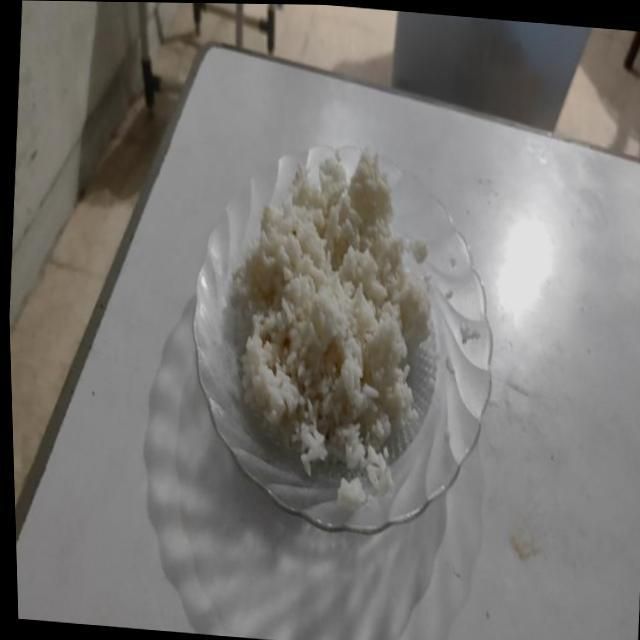nasi_putih: (236, 152, 434, 489)
